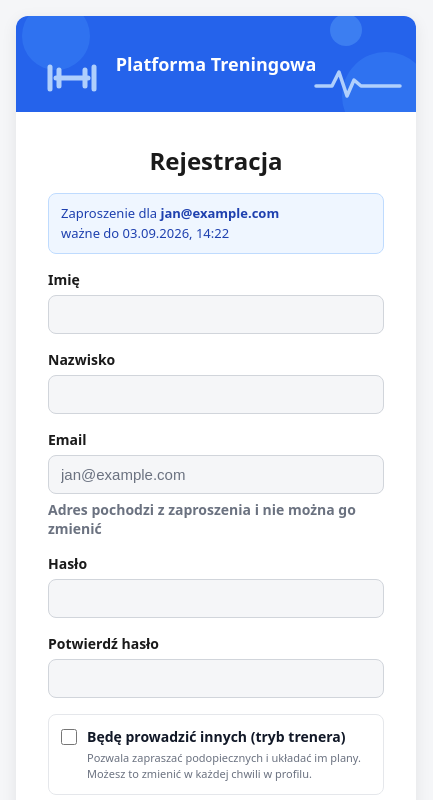
Test: RegisterPage › walidacja › wymaga zgodnych haseł
Type "Jan" into the field labelled "Imię". click: (216, 314)
box: [48, 295, 384, 334]
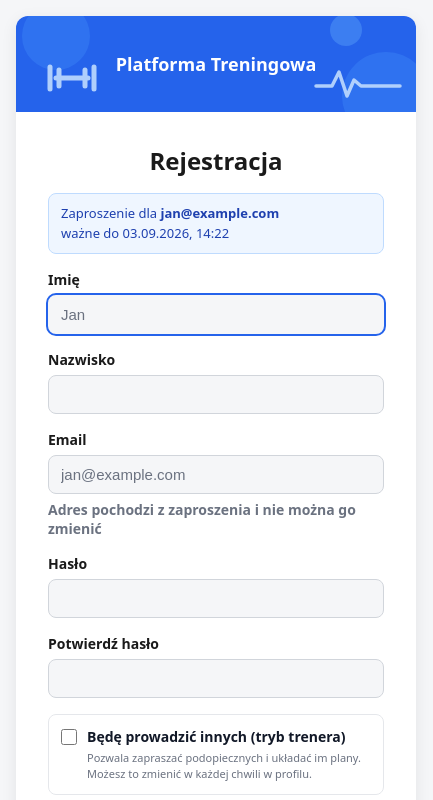
Type "Kowalski" into the field labelled "Nazwisko". click: (216, 394)
box: [48, 375, 384, 414]
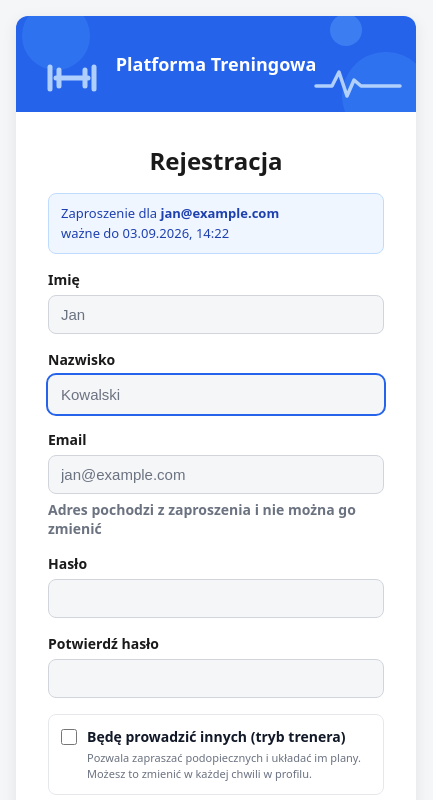
Type "haslo12345" into the password field labelled "Hasło". click: (216, 598)
box: [48, 579, 384, 618]
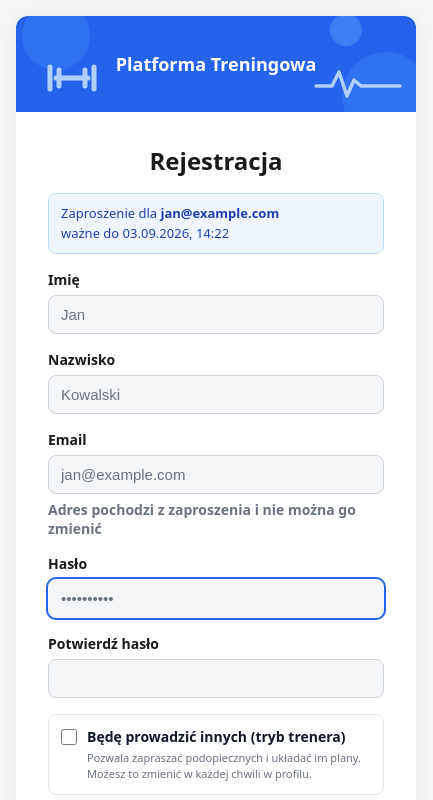
Type "inne-haslo123" into the password field labelled "Potwierdź hasło". click: (216, 678)
box: [48, 659, 384, 698]
(page scrolled)
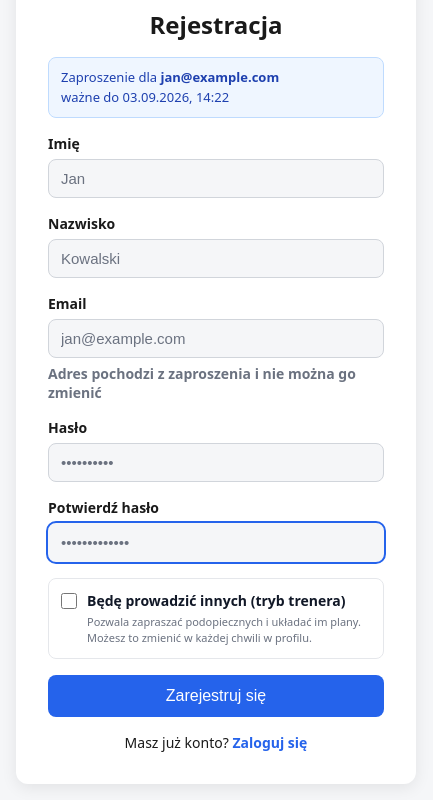
Click the button "Zarejestruj się". click: (216, 696)
box: [48, 675, 384, 717]
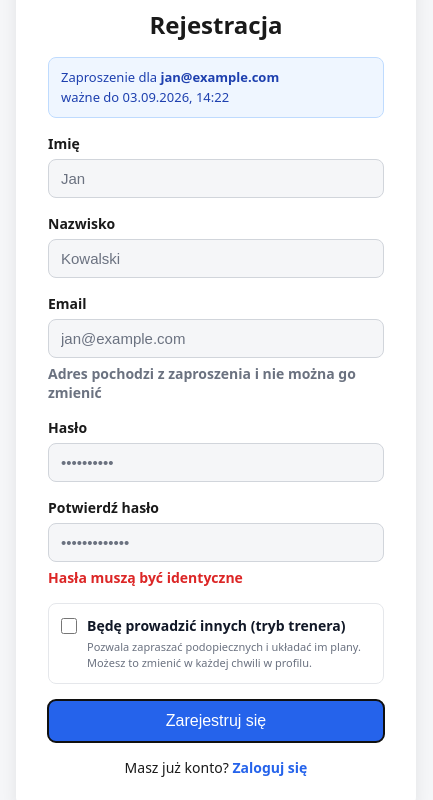
Expected: the text "Hasła muszą być identyczne" is shown, [48, 568, 243, 587]
